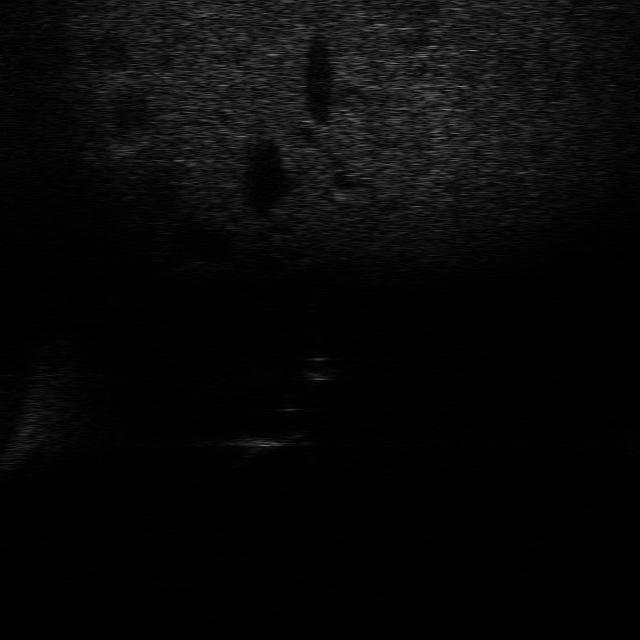ball: (298, 350, 342, 385)
square cage: (225, 422, 310, 459)
